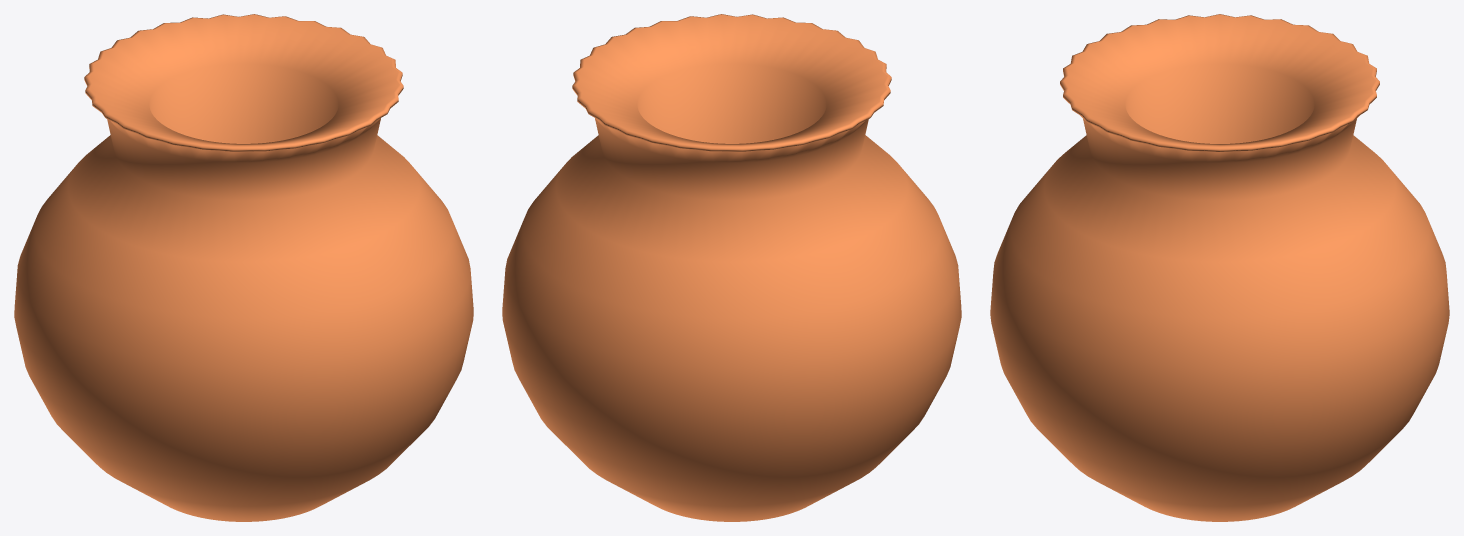
File: Vase.3.fbx
3 renders of one model, left to right at view 1: azimuth 30°, elevation 25°; view 2: azimuth 150°, elevation 25°; view 3: azimuth 270°, elevation 25°, orthographic.
Visible parts, largest first — view 1: Cylinder; view 2: Cylinder; view 3: Cylinder.
Part boxes in pixels (left/top/right/bottom): Cylinder: left=14, top=14, right=473, bottom=521; Cylinder: left=502, top=14, right=961, bottom=521; Cylinder: left=990, top=14, right=1449, bottom=521.
Bounding box in the file's own units: 221 × 212 × 221.
